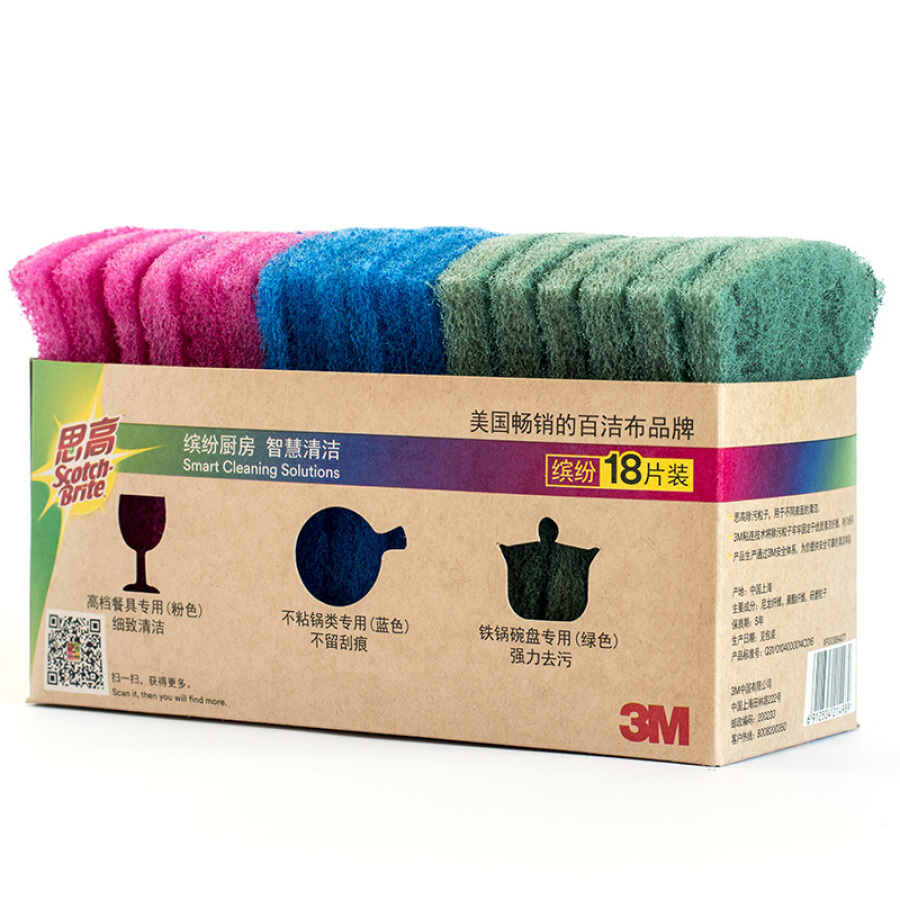3M: (617, 699, 695, 752)
